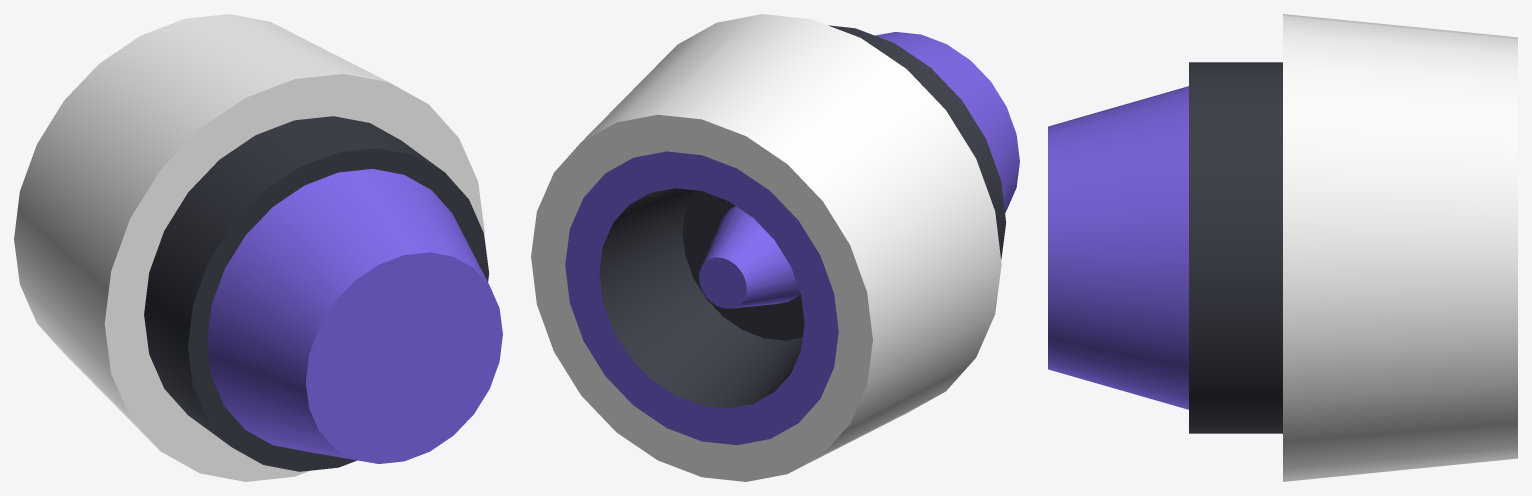
The model's file is Engine.glb.
3 views of the same model, side by side, from view 1: azimuth 30°, elevation 25°; view 2: azimuth 150°, elevation 25°; view 3: azimuth 270°, elevation 25° (orthographic). The views are drawn at different scales.
Parts seen in each view (by area): view 1: engine_round; view 2: engine_round; view 3: engine_round.
Boxes of the visible parts, left/top/right/bottom form: engine_round: left=14, top=14, right=502, bottom=481; engine_round: left=531, top=14, right=1019, bottom=481; engine_round: left=1048, top=14, right=1517, bottom=481.
Bounding box in the file's own units: 1 × 1 × 1.
